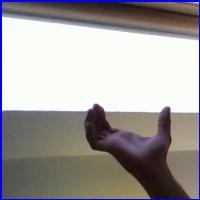space: (74, 95, 183, 174)
